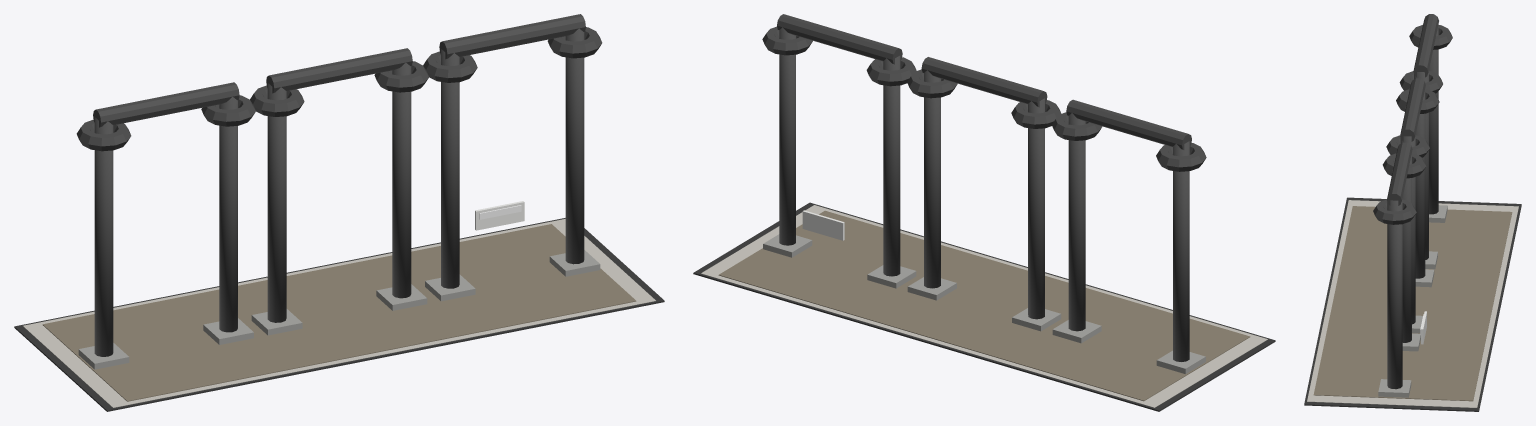
File: hm_prop_bike_rack_v2.glb
3 views of the same model, side by side, from view 1: azimuth 30°, elevation 25°; view 2: azimuth 150°, elevation 25°; view 3: azimuth 270°, elevation 25° (orthographic). The views are drawn at different scales.
Visible parts, largest first — view 1: hm_prop_bike_rack_v2_Dirt, hm_prop_bike_rack_v2_SaltRing, Bike_Up_1_-1, Bike_Up_0_-1, Bike_Up_1_1, Bike_Up_2_1, hm_prop_bike_rack_v2_Shadow, Bike_Up_2_-1, Bike_Up_0_1, Bike_Top_0, Bike_Top_2, Bike_Top_1 (+13 smaller); view 2: hm_prop_bike_rack_v2_Dirt, hm_prop_bike_rack_v2_SaltRing, Bike_Up_2_-1, hm_prop_bike_rack_v2_Shadow, Bike_Up_0_1, Bike_Up_1_-1, Bike_Up_0_-1, Bike_Up_1_1, Bike_Up_2_1, Bike_Top_0, Bike_Top_2, Bike_Top_1 (+13 smaller); view 3: hm_prop_bike_rack_v2_Dirt, hm_prop_bike_rack_v2_SaltRing, Bike_Up_2_1, hm_prop_bike_rack_v2_Shadow, Bike_Up_2_-1, Bike_Up_1_-1, Bike_Up_0_-1, Bike_Top_1, Bike_Top_2, Bike_Top_0, Bike_Cr_2_1, Bike_Up_1_1 (+10 smaller).
Boxes of the visible parts, x1=… form: hm_prop_bike_rack_v2_Dirt: x1=42, y1=224, x2=636, y2=401; hm_prop_bike_rack_v2_SaltRing: x1=23, y1=219, x2=655, y2=407; Bike_Up_1_-1: x1=267, y1=83, x2=286, y2=322; Bike_Up_0_-1: x1=94, y1=117, x2=113, y2=356; Bike_Up_1_1: x1=392, y1=63, x2=411, y2=298; Bike_Up_2_1: x1=565, y1=28, x2=584, y2=264; hm_prop_bike_rack_v2_Shadow: x1=14, y1=218, x2=664, y2=411; Bike_Up_2_-1: x1=441, y1=49, x2=459, y2=288; Bike_Up_0_1: x1=219, y1=97, x2=237, y2=332; Bike_Top_0: x1=93, y1=82, x2=239, y2=127; Bike_Top_2: x1=439, y1=14, x2=585, y2=59; Bike_Top_1: x1=266, y1=48, x2=412, y2=93; hm_prop_bike_rack_v2_Dirt: x1=718, y1=210, x2=1250, y2=401; hm_prop_bike_rack_v2_SaltRing: x1=701, y1=205, x2=1267, y2=407; Bike_Up_2_-1: x1=883, y1=55, x2=900, y2=276; hm_prop_bike_rack_v2_Shadow: x1=693, y1=202, x2=1275, y2=411; Bike_Up_0_1: x1=1068, y1=113, x2=1085, y2=331; Bike_Up_1_-1: x1=1028, y1=98, x2=1044, y2=319; Bike_Up_0_-1: x1=1173, y1=141, x2=1189, y2=361; Bike_Up_1_1: x1=924, y1=70, x2=940, y2=288; Bike_Up_2_1: x1=779, y1=27, x2=795, y2=245; Bike_Top_0: x1=1066, y1=99, x2=1191, y2=149; Bike_Top_2: x1=777, y1=14, x2=902, y2=64; Bike_Top_1: x1=921, y1=57, x2=1047, y2=107; hm_prop_bike_rack_v2_Dirt: x1=1313, y1=206, x2=1512, y2=401; hm_prop_bike_rack_v2_SaltRing: x1=1307, y1=200, x2=1518, y2=407; Bike_Up_2_1: x1=1387, y1=198, x2=1402, y2=389; hm_prop_bike_rack_v2_Shadow: x1=1304, y1=197, x2=1521, y2=411; Bike_Up_2_-1: x1=1402, y1=153, x2=1411, y2=342; Bike_Up_1_-1: x1=1415, y1=89, x2=1425, y2=278; Bike_Up_0_-1: x1=1429, y1=24, x2=1438, y2=214; Bike_Top_1: x1=1400, y1=78, x2=1425, y2=141; Bike_Top_2: x1=1387, y1=142, x2=1412, y2=205; Bike_Top_0: x1=1413, y1=14, x2=1438, y2=77; Bike_Cr_2_1: x1=1373, y1=199, x2=1416, y2=224; Bike_Up_1_1: x1=1400, y1=136, x2=1415, y2=324.
Size of the model in its own units: 1.65 by 0.7278 by 0.7131.
